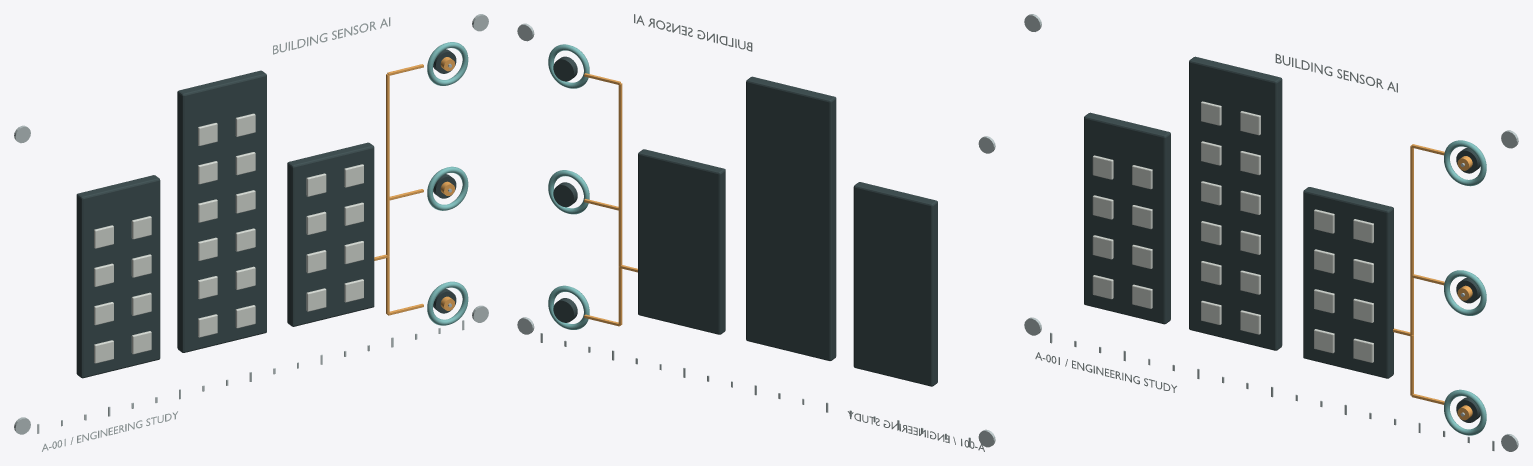
File: building-ai.glb
3 renders of one model, left to right at view 1: azimuth 30°, elevation 25°; view 2: azimuth 150°, elevation 25°; view 3: azimuth 330°, elevation 25°, orthographic. The views are drawn at different scales.
Visible parts, largest first — view 1: optical-core__Project_Graphite.007, optical-core__Project_Ceramic.007, optical-lenses__Project_Silver.008, optical-lenses__Project_Trace.006, optical-lenses__Project_Amber.003, optical-core__Project_Amber.008; view 2: optical-core__Project_Graphite.007, optical-lenses__Project_Silver.008, optical-lenses__Project_Trace.006, optical-lenses__Project_Amber.003; view 3: optical-core__Project_Graphite.007, optical-core__Project_Ceramic.007, optical-lenses__Project_Silver.008, optical-lenses__Project_Trace.006, optical-lenses__Project_Amber.003, optical-core__Project_Amber.008.
Boxes of the visible parts, x1=… form: optical-core__Project_Graphite.007: x1=76, y1=49, x2=456, y2=378; optical-core__Project_Ceramic.007: x1=94, y1=113, x2=363, y2=363; optical-lenses__Project_Silver.008: x1=14, y1=14, x2=488, y2=451; optical-lenses__Project_Trace.006: x1=427, y1=42, x2=468, y2=325; optical-lenses__Project_Amber.003: x1=374, y1=64, x2=423, y2=315; optical-core__Project_Amber.008: x1=440, y1=57, x2=454, y2=310; optical-core__Project_Graphite.007: x1=553, y1=56, x2=937, y2=386; optical-lenses__Project_Silver.008: x1=517, y1=14, x2=995, y2=451; optical-lenses__Project_Trace.006: x1=548, y1=44, x2=589, y2=329; optical-lenses__Project_Amber.003: x1=584, y1=73, x2=637, y2=326; optical-core__Project_Graphite.007: x1=1084, y1=56, x2=1480, y2=422; optical-core__Project_Ceramic.007: x1=1092, y1=101, x2=1373, y2=362; optical-lenses__Project_Silver.008: x1=1024, y1=14, x2=1518, y2=451; optical-lenses__Project_Trace.006: x1=1444, y1=140, x2=1486, y2=435; optical-lenses__Project_Amber.003: x1=1393, y1=144, x2=1444, y2=404; optical-core__Project_Amber.008: x1=1457, y1=156, x2=1472, y2=420.
Bounding box in the file's own units: 4.01 × 2.83 × 0.1417.
